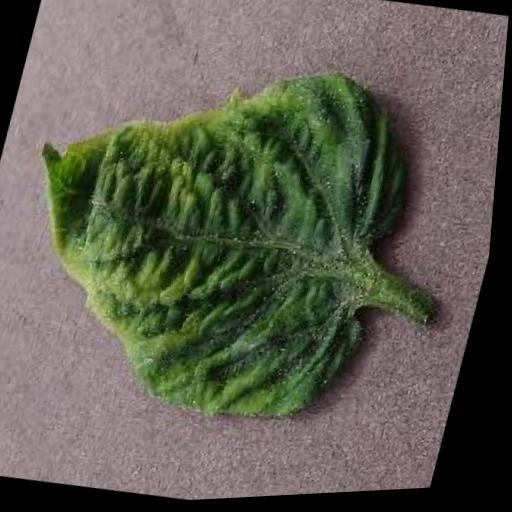Yellow Leaf Curl Virus: (0, 21, 445, 454)
